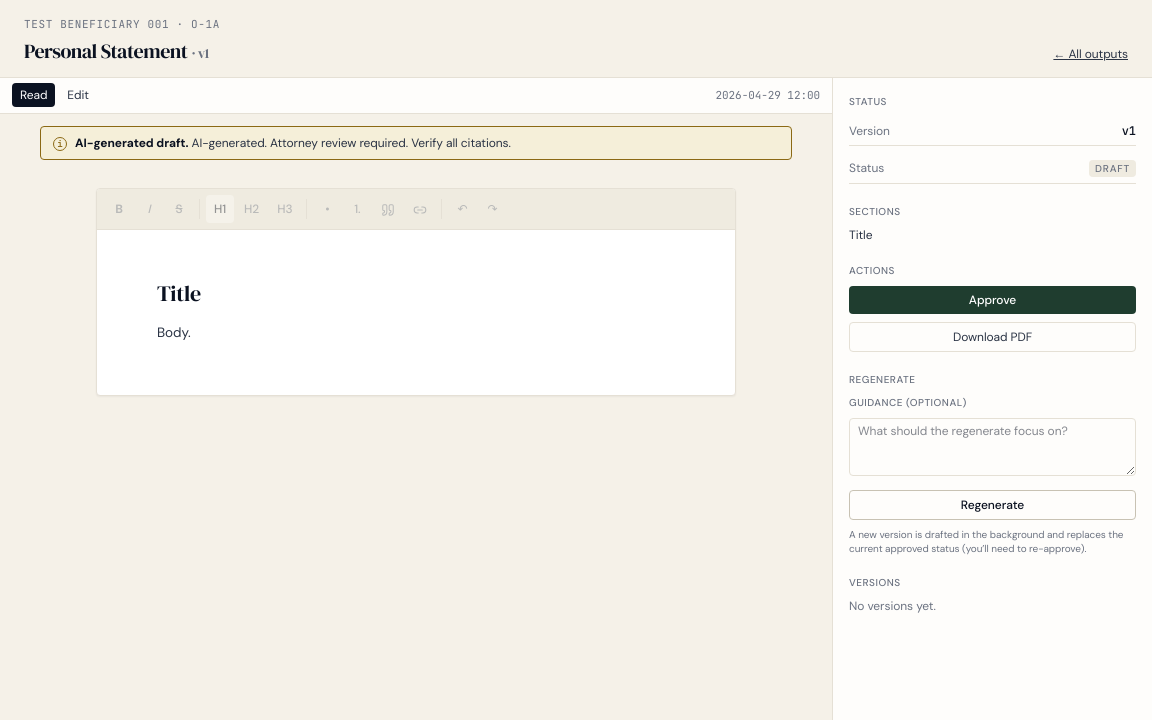
OutputDetailPanel — Save flow › Save with whitespace-only markdown rejects locally (no mutation, error visible)
The image size is (1152, 720).
Click the button "Edit" at (78, 95), box [59,83,97,107]
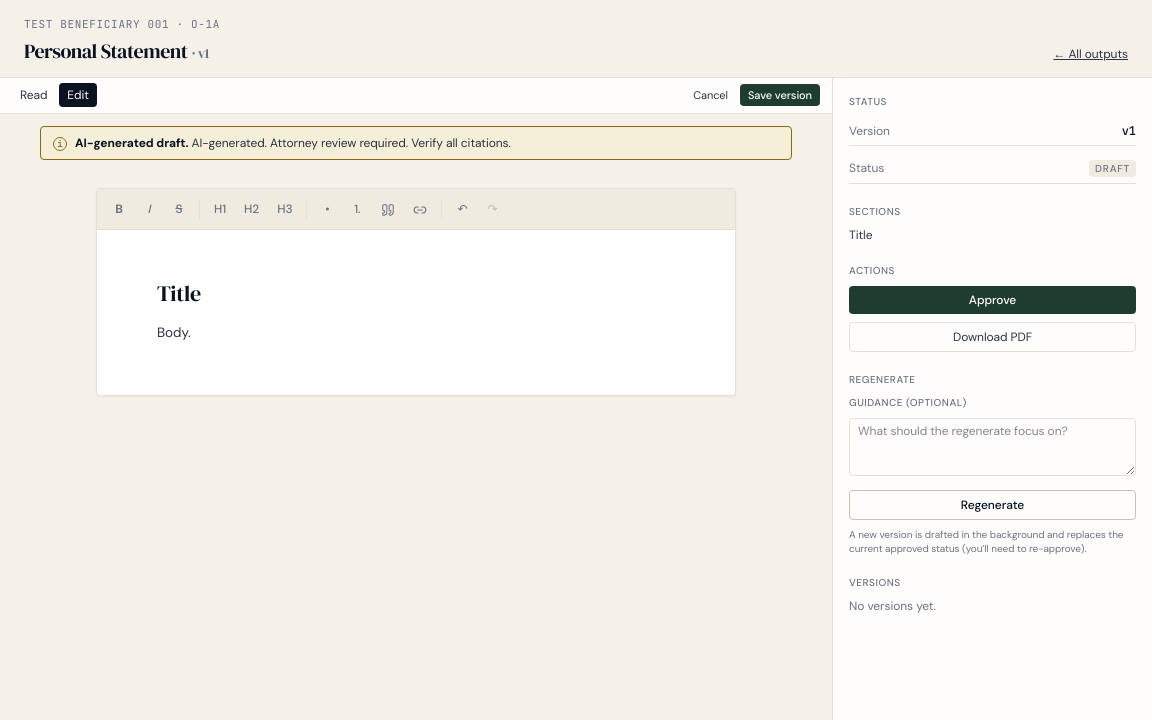
Click the button "Save version" at (780, 95), box [740,84,820,106]
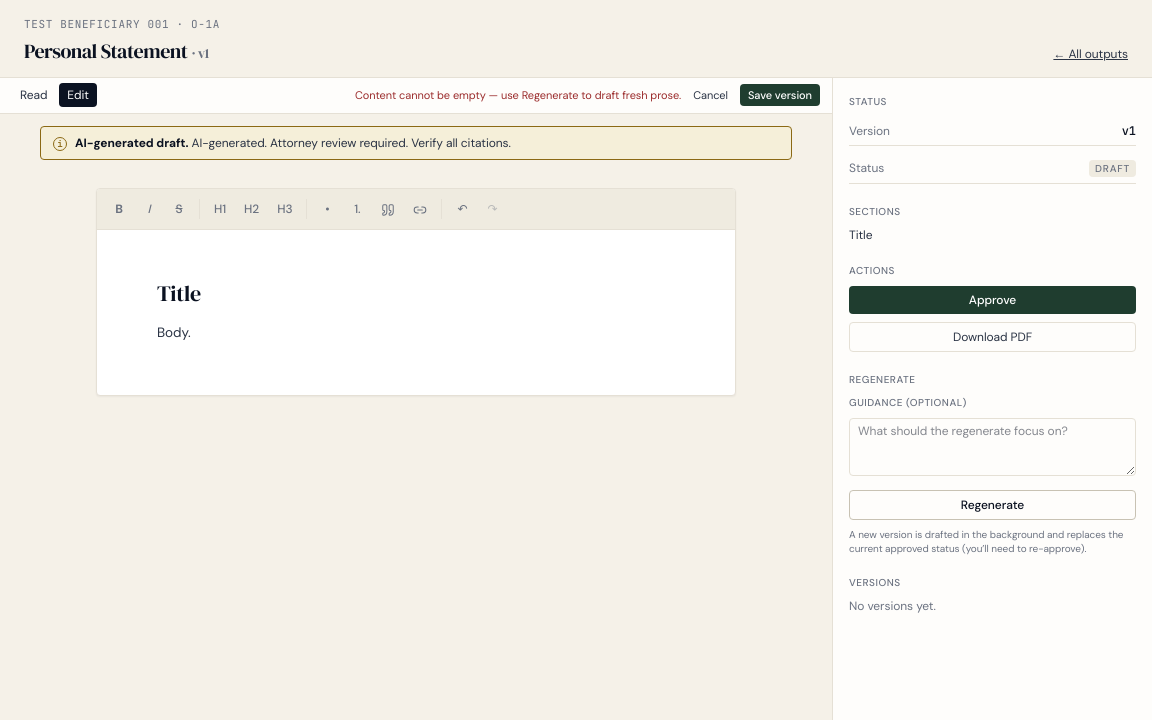
expect the message shows "cannot be empty": met, box [355,88,681,102]
